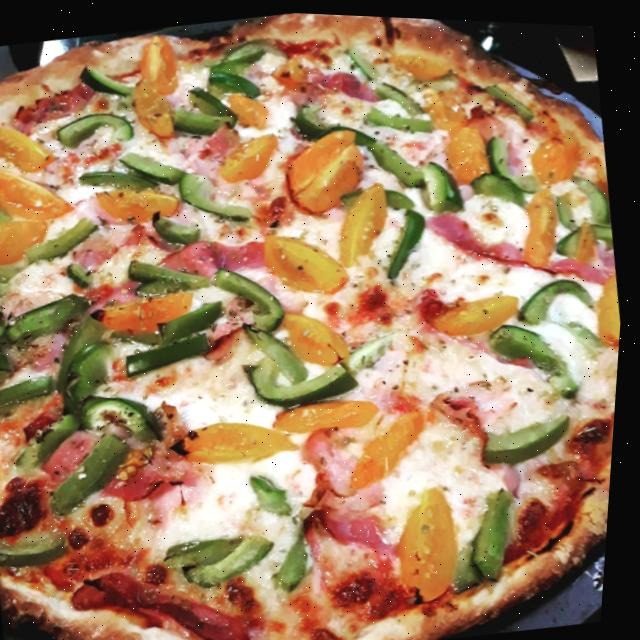pizza: (0, 0, 640, 640)
tomatoes: (392, 478, 476, 603), (278, 121, 373, 216), (350, 403, 444, 495), (175, 407, 305, 473), (259, 219, 357, 300), (428, 282, 534, 341), (0, 154, 80, 230), (275, 384, 386, 438), (282, 298, 361, 370), (102, 285, 204, 339), (335, 179, 399, 265), (97, 176, 186, 231), (212, 125, 285, 189), (0, 114, 60, 178), (528, 122, 587, 183), (130, 75, 181, 144), (521, 183, 563, 265), (441, 116, 494, 180), (384, 35, 454, 83), (137, 31, 185, 99), (0, 213, 55, 271), (593, 262, 627, 345), (423, 78, 476, 125), (265, 50, 317, 91), (230, 88, 273, 135)
